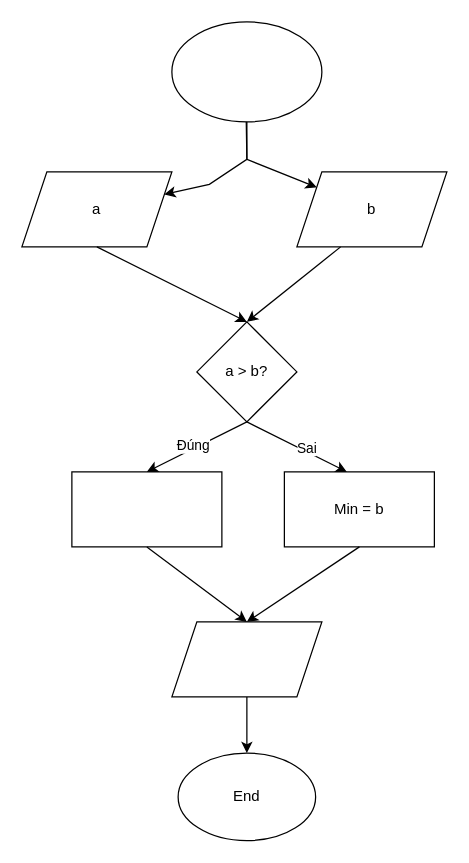
Image size: 469x863. Some labels were removed from this diagram. Each missing label, with the box of its shape:
Bắt đầu: (171, 21, 322, 122)
Min = a: (71, 471, 222, 547)
Output min: (171, 621, 322, 697)
